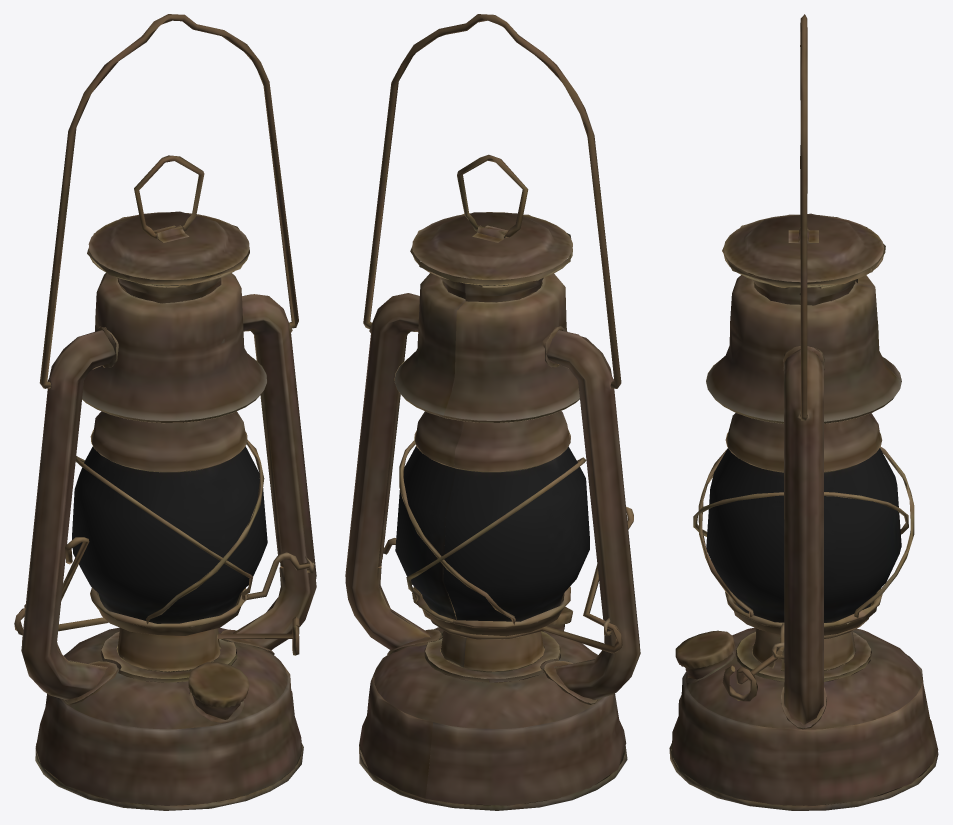
Rendered from Lantern_01.gltf.
3 renders of one model, left to right at view 1: azimuth 30°, elevation 25°; view 2: azimuth 150°, elevation 25°; view 3: azimuth 270°, elevation 25°, orthographic.
Visible parts, largest first — view 1: Lantern_01, Lantern_01_glass; view 2: Lantern_01, Lantern_01_glass; view 3: Lantern_01, Lantern_01_glass.
Part boxes in pixels (x1,y1,x2,y2): Lantern_01: [14, 14, 316, 810]; Lantern_01_glass: [72, 446, 267, 623]; Lantern_01: [345, 14, 640, 810]; Lantern_01_glass: [395, 446, 589, 621]; Lantern_01: [669, 14, 938, 810]; Lantern_01_glass: [706, 448, 901, 622].
Bounding box in the file's own units: 0.1226 × 0.2943 × 0.0973.
2 materials, 2 textured.
